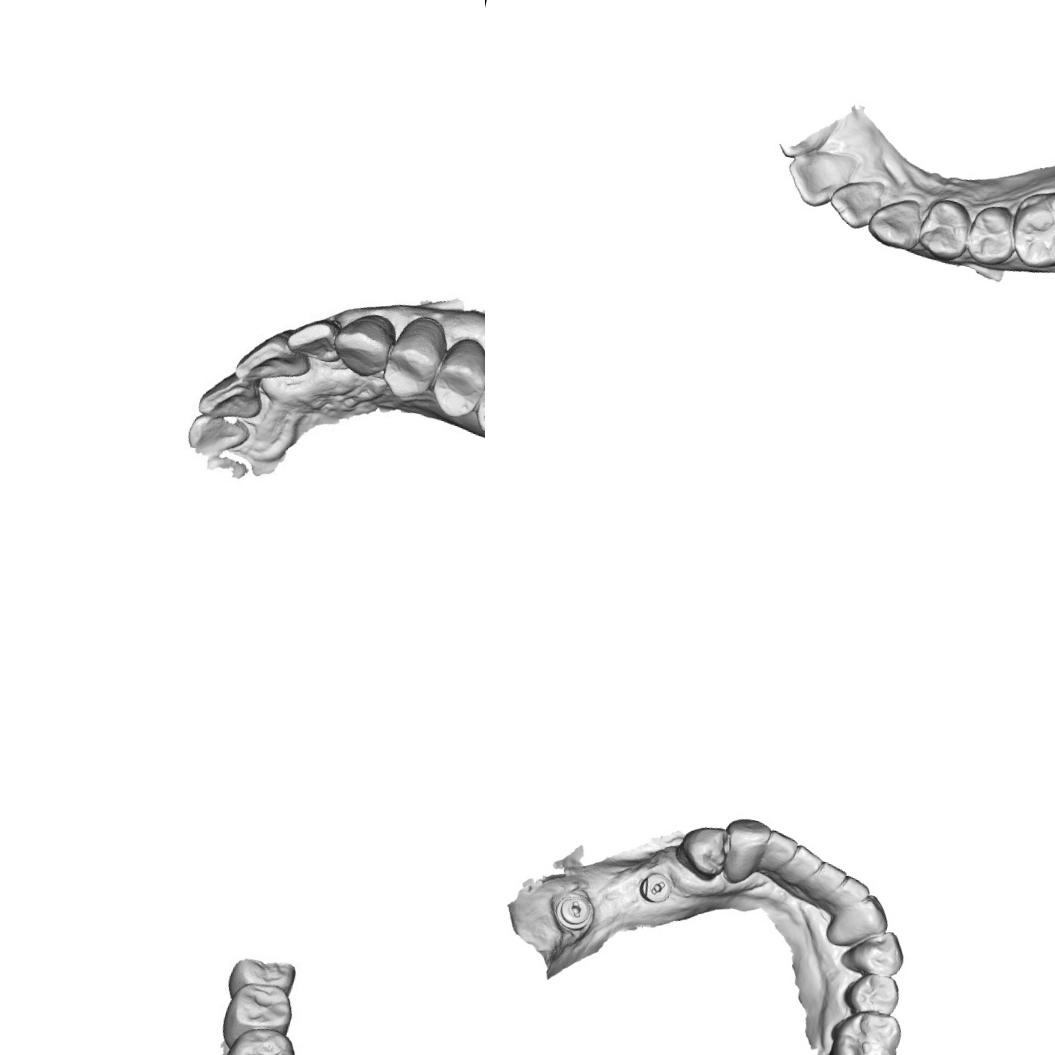canine: (328, 305, 398, 381), (713, 813, 774, 889), (863, 190, 928, 254), (834, 888, 894, 946)
implant_minus: (551, 890, 597, 936), (636, 868, 676, 907)
incisor: (780, 142, 862, 215), (235, 329, 309, 395), (825, 172, 890, 235), (197, 368, 266, 424), (285, 312, 342, 370), (776, 841, 825, 891), (756, 826, 802, 878), (802, 858, 849, 904), (832, 872, 874, 916)
molar: (1003, 182, 1055, 277), (820, 1003, 907, 1055)
premolar: (376, 309, 454, 408), (217, 974, 300, 1055), (424, 332, 485, 422), (914, 195, 980, 266), (962, 199, 1026, 269), (844, 922, 910, 981), (673, 819, 731, 883), (206, 1017, 301, 1055), (841, 965, 905, 1020)
